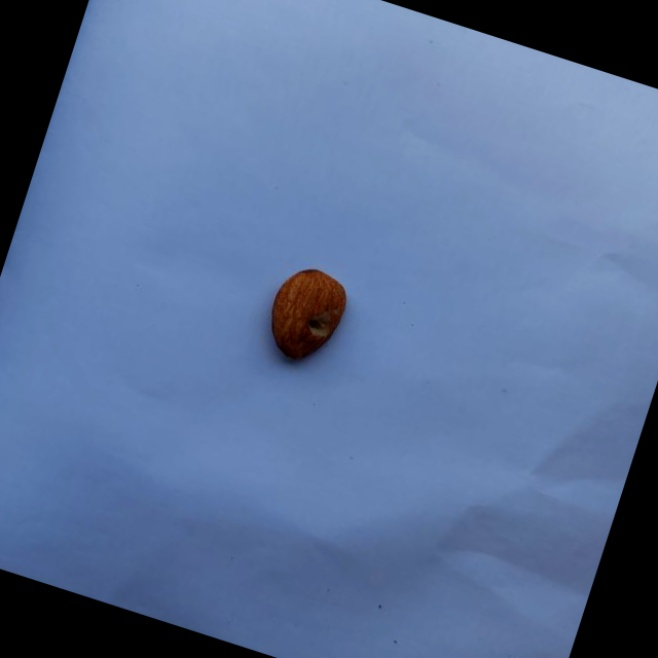grade3: (256, 256, 360, 376)
